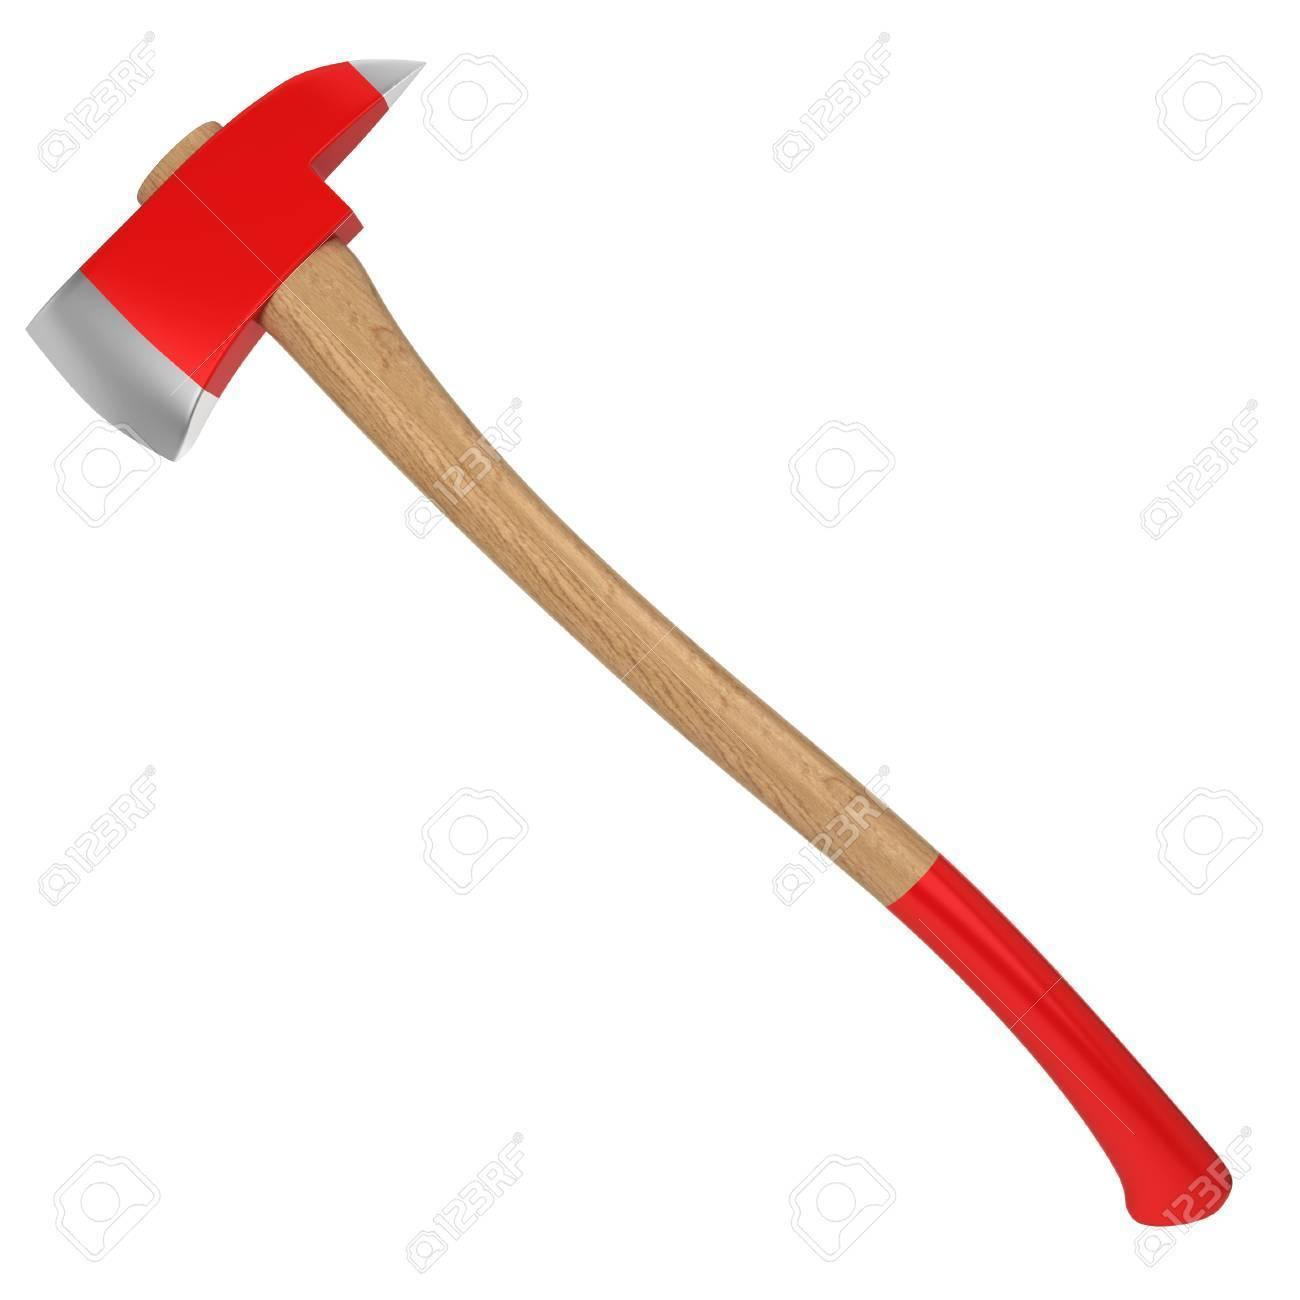machado: (29, 62, 1231, 1226)
